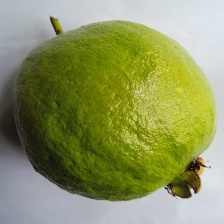guava: (49, 14, 205, 192)
